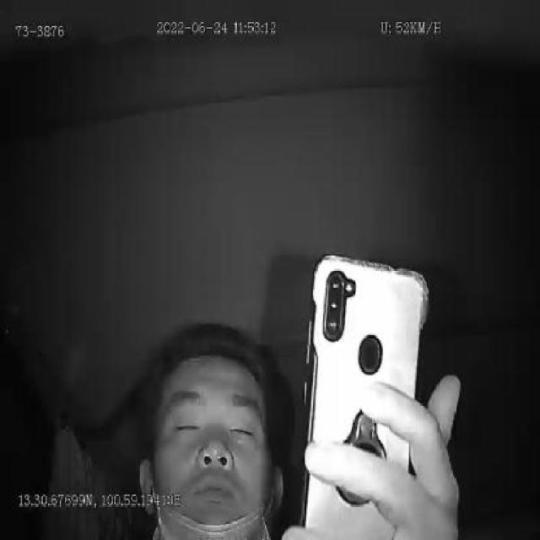phone: (298, 251, 430, 540)
